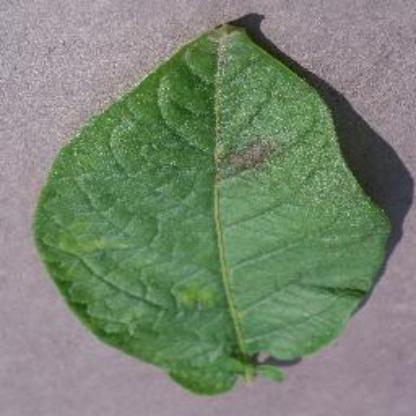Late-Blight: (35, 17, 396, 395)
